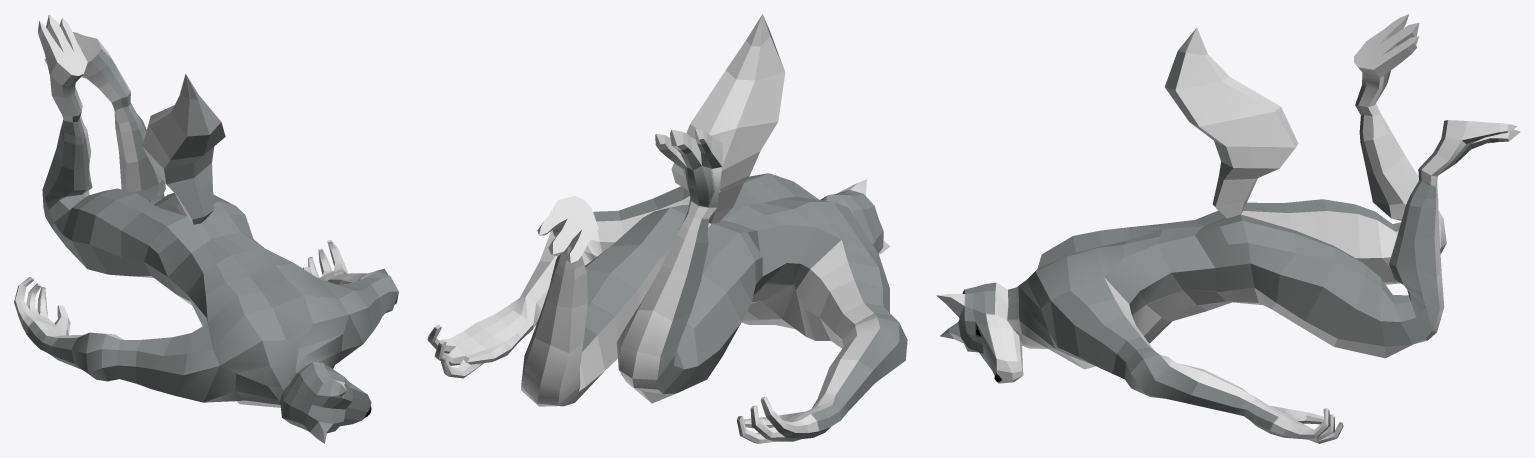
File: WolfDead(72).obj
The picture shows the model from 3 angles, left to right: view 1: azimuth 30°, elevation 25°; view 2: azimuth 150°, elevation 25°; view 3: azimuth 270°, elevation 25°; orthographic projection. The views are drawn at different scales.
Visible parts, largest first — view 1: Box001; view 2: Box001; view 3: Box001.
Part boxes in pixels (box(x1,y1,x2,y2)): Box001: box(14, 14, 398, 443); Box001: box(427, 14, 907, 443); Box001: box(936, 14, 1520, 443).
Bounding box in the file's own units: 92.6 × 83.09 × 138.
